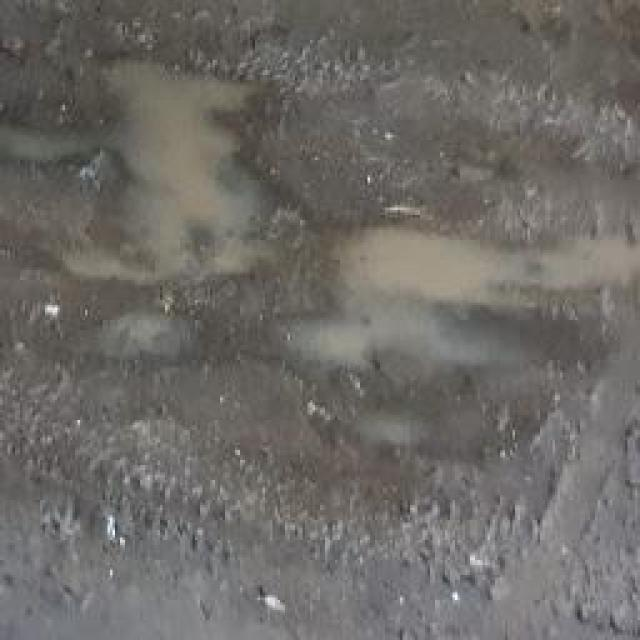stagnation: (243, 191, 640, 411), (41, 39, 300, 307)
